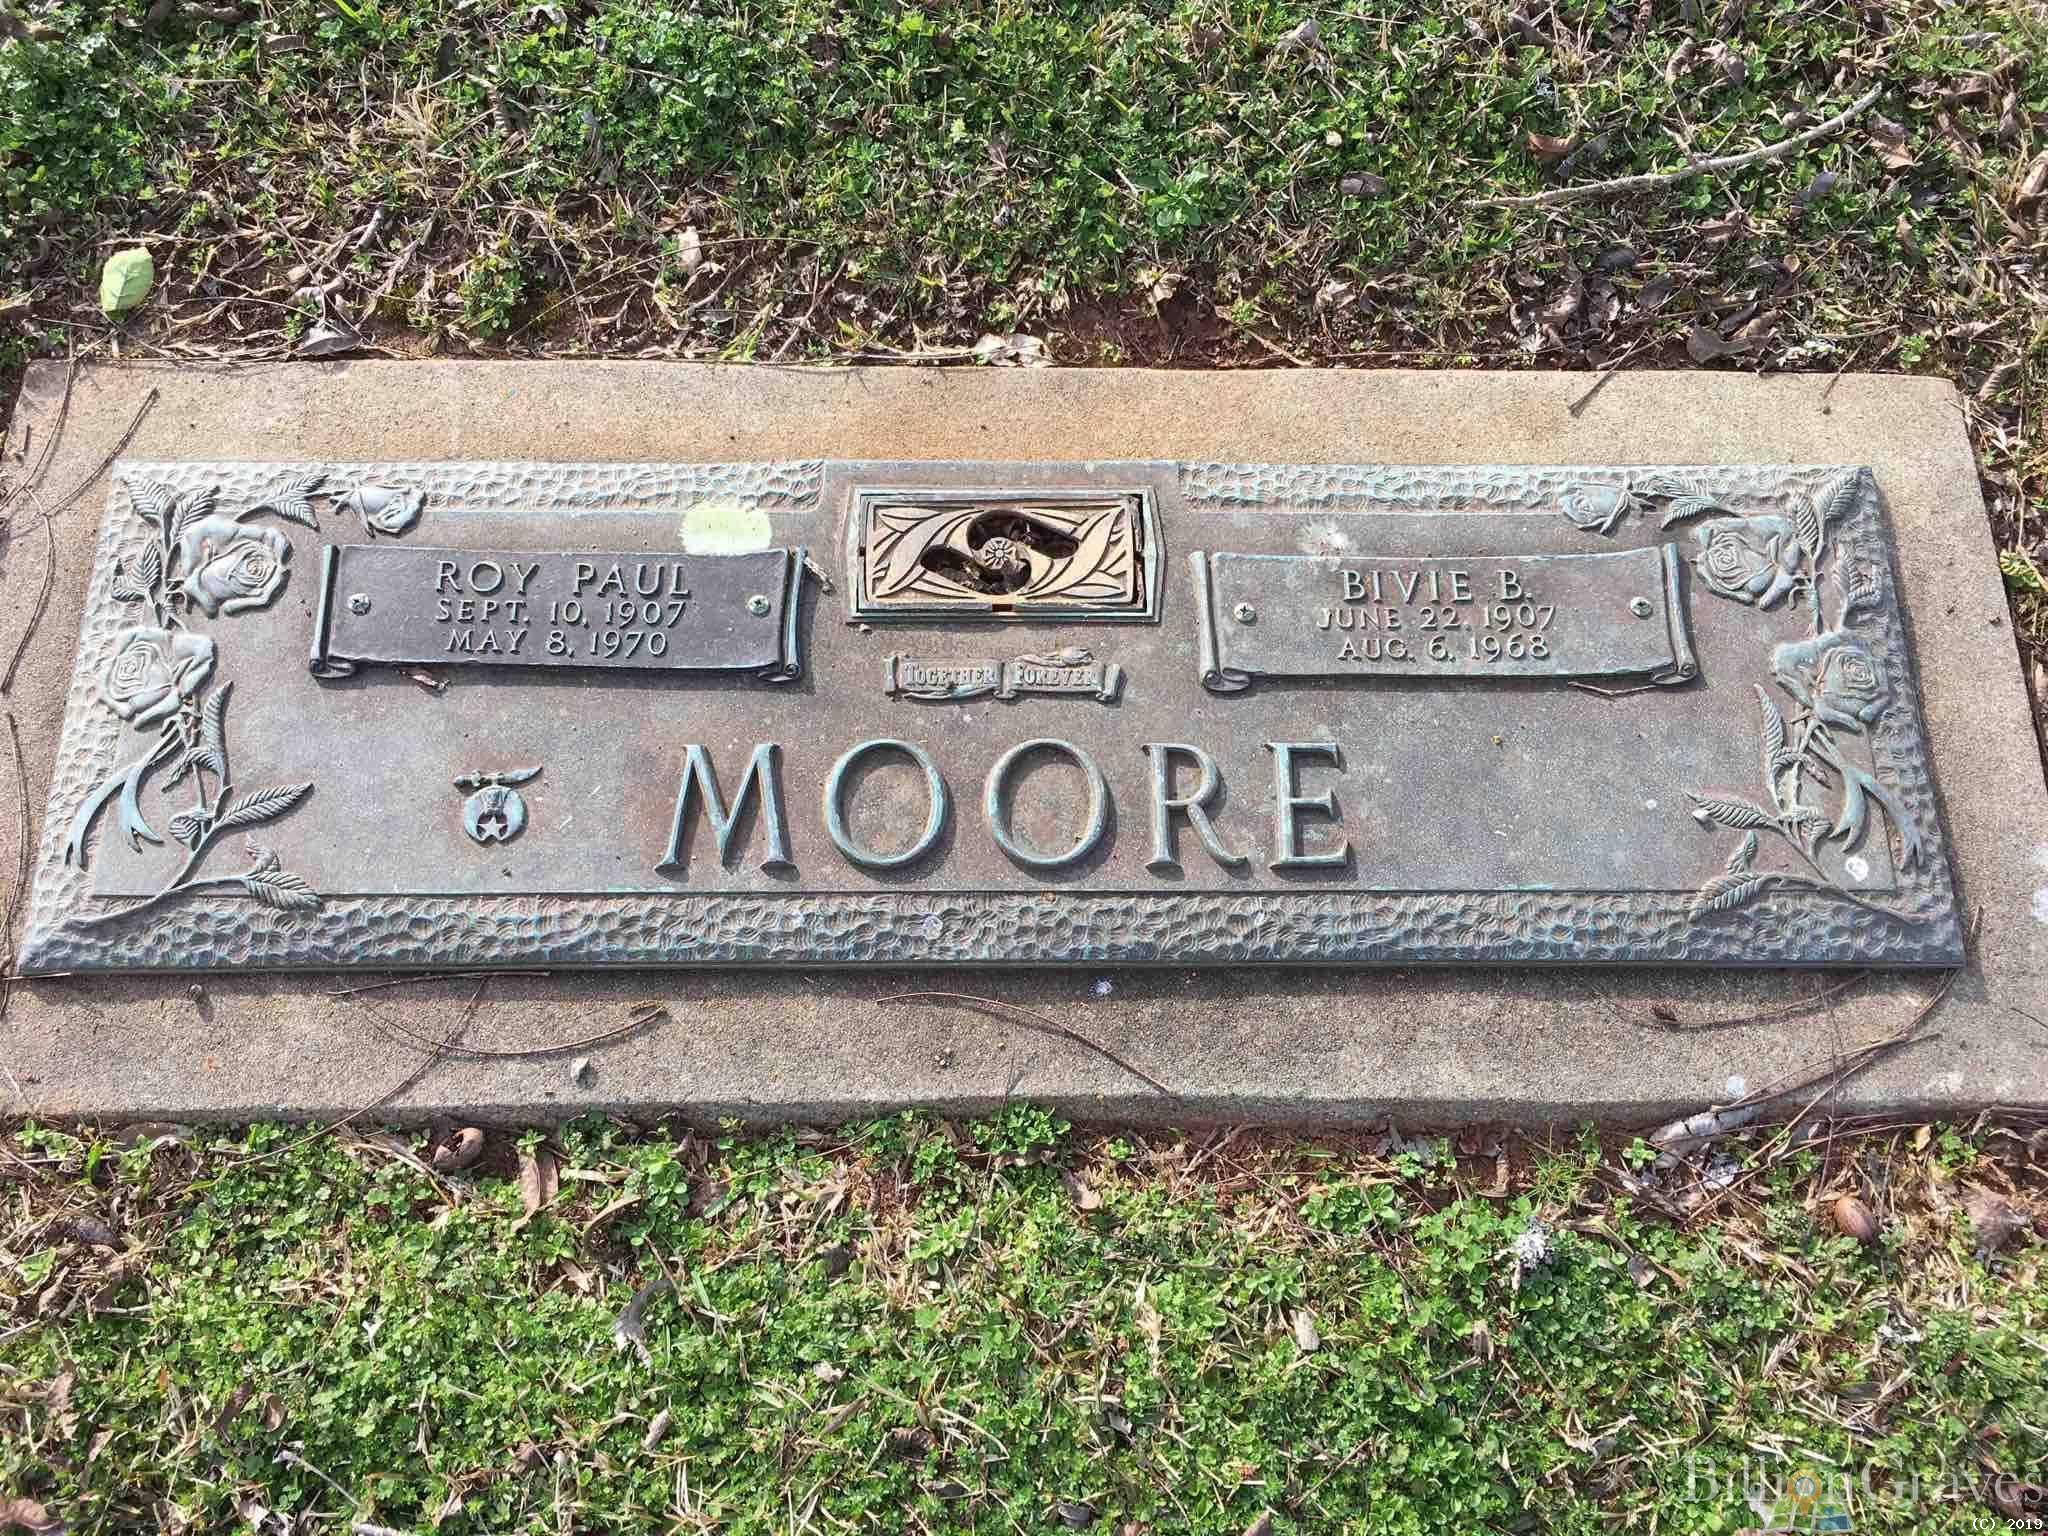flat: (0, 358, 2048, 1105)
